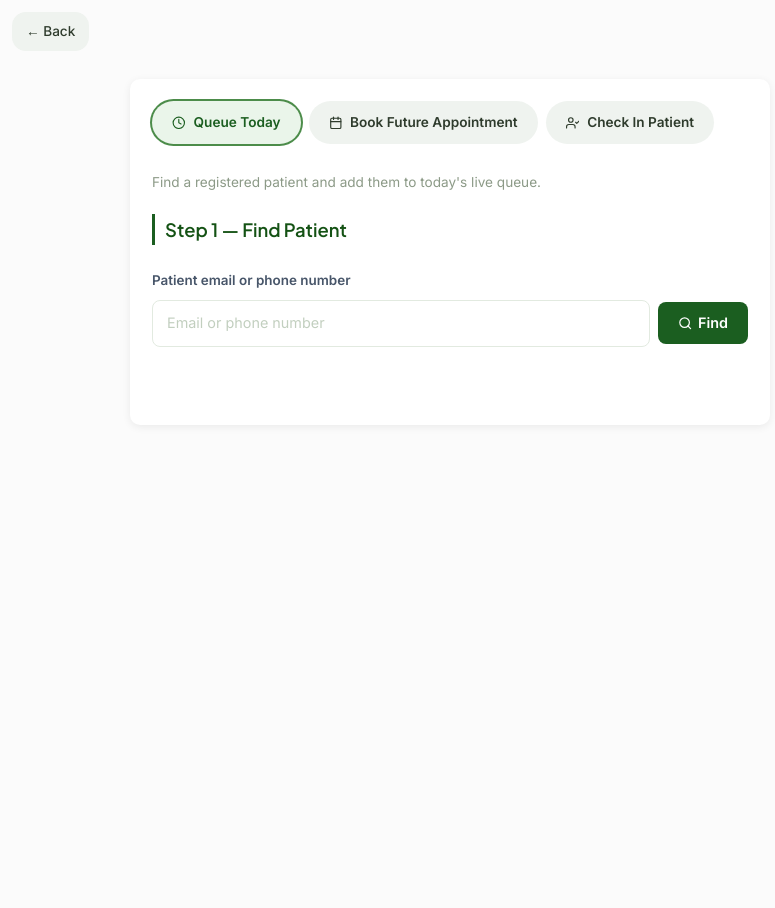
Test: Book Future Appointment › shows future slots only
Click the button "Book Future Appointment".
click(423, 123)  # box [308,101,538,144]
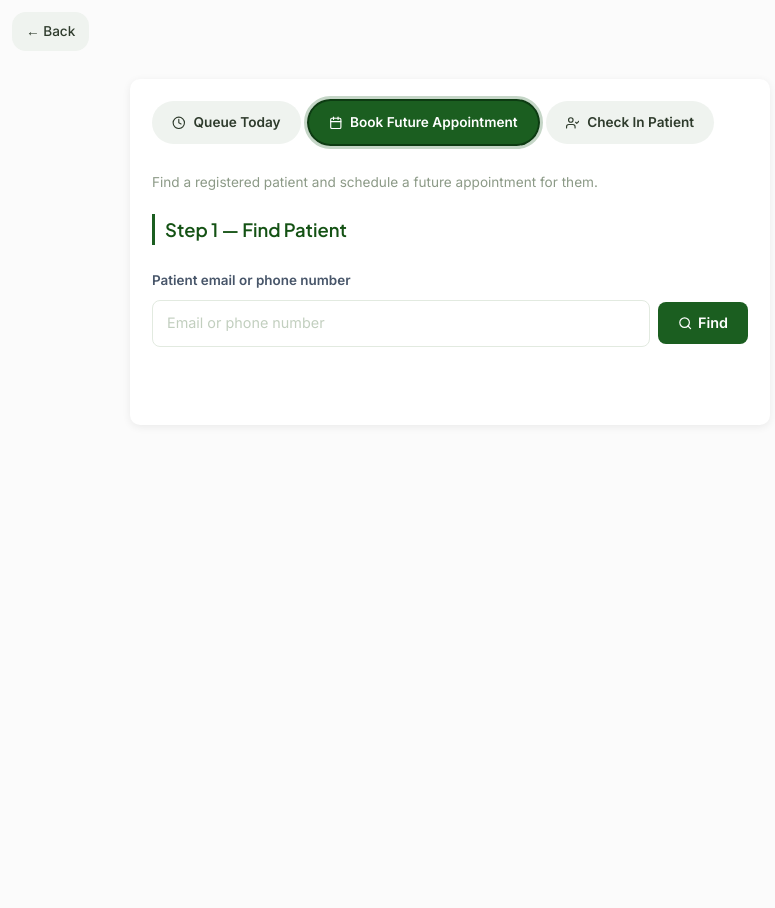
Type "john@example.com" into the field with placeholder "Email or phone number".
click(401, 323); type("john@example.com")  # box [152,300,650,347]
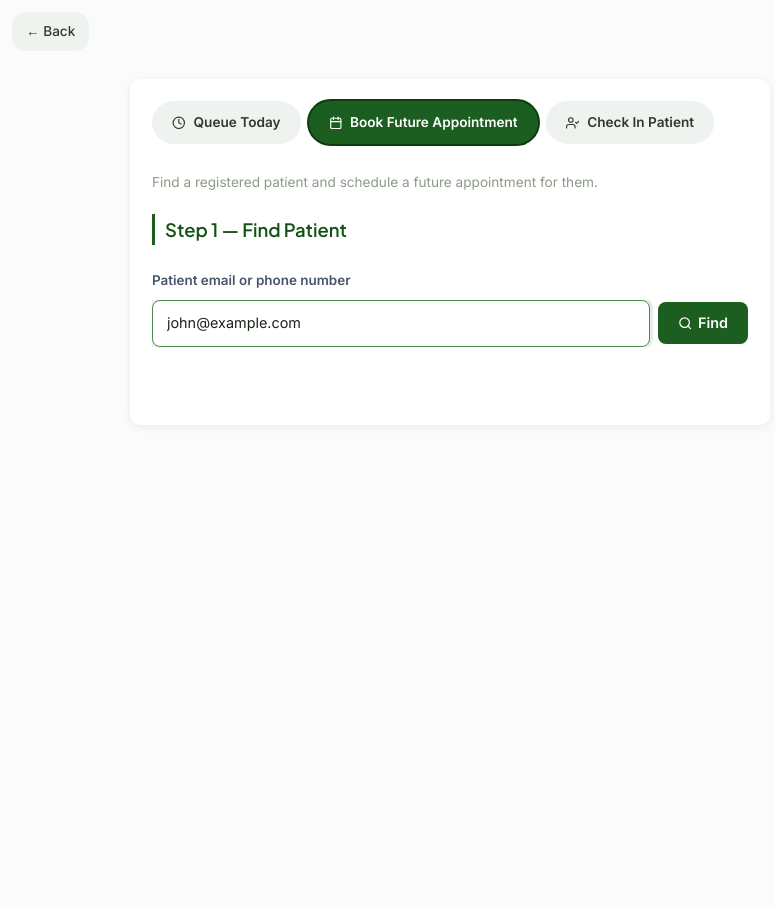
Click the button "Find".
click(703, 323)  # box [658,302,748,344]
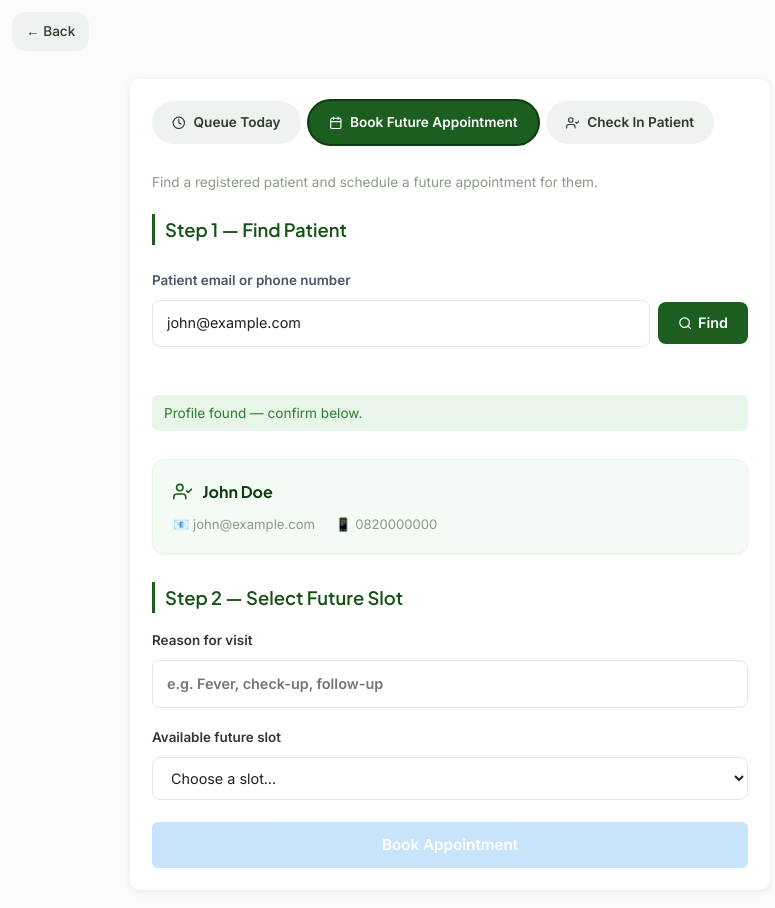
Expected: the text "Profile found — confirm below." is shown, [152,394,748,431]
